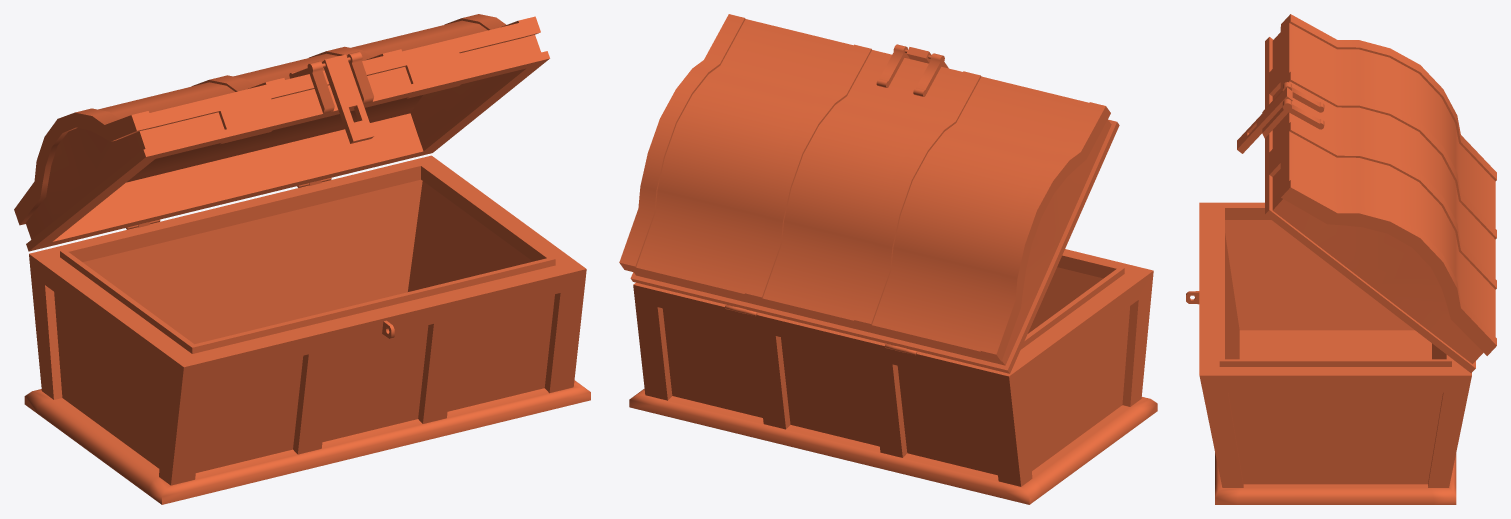
Rendered from Wooden_Box.fbx.
3 renders of one model, left to right at view 1: azimuth 30°, elevation 25°; view 2: azimuth 150°, elevation 25°; view 3: azimuth 270°, elevation 25°, orthographic. The views are drawn at different scales.
Visible parts, largest first — view 1: Wooden_Box, Wooden_Box_Top, Wooden_Box_Lock; view 2: Wooden_Box_Top, Wooden_Box; view 3: Wooden_Box, Wooden_Box_Top, Wooden_Box_Lock.
Boxes of the visible parts, x1=… form: Wooden_Box: x1=24, y1=155, x2=590, y2=504; Wooden_Box_Top: x1=14, y1=14, x2=549, y2=251; Wooden_Box_Lock: x1=322, y1=54, x2=374, y2=143; Wooden_Box_Top: x1=619, y1=14, x2=1119, y2=373; Wooden_Box: x1=629, y1=249, x2=1157, y2=504; Wooden_Box: x1=1186, y1=202, x2=1471, y2=504; Wooden_Box_Top: x1=1262, y1=14, x2=1496, y2=373; Wooden_Box_Lock: x1=1237, y1=87, x2=1292, y2=153.
Bounding box in the file's own units: 0.3891 × 0.3169 × 0.278.
